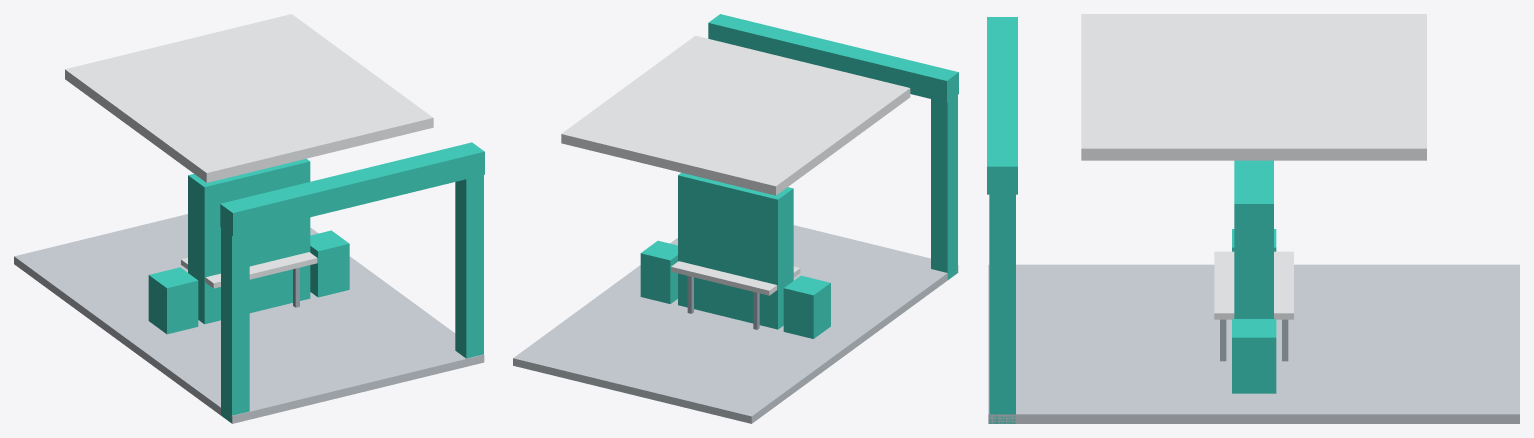
3 renders of one model, left to right at view 1: azimuth 30°, elevation 25°; view 2: azimuth 150°, elevation 25°; view 3: azimuth 270°, elevation 25°, orthographic. The views are drawn at different scales.
Visible parts, largest first — view 1: Exhibition Booth Concept; view 2: Exhibition Booth Concept; view 3: Exhibition Booth Concept.
Boxes of the visible parts, x1,y1,x2,y2 form: Exhibition Booth Concept: (14,14,484,423); Exhibition Booth Concept: (513,14,958,423); Exhibition Booth Concept: (987,14,1519,423).
Bounding box in the file's own units: 4 × 3.34 × 6.02.
